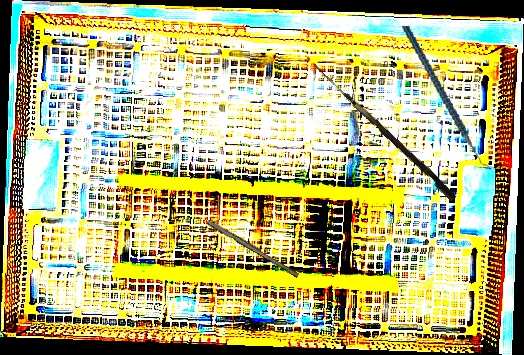Chopper: (401, 14, 497, 181)
Hook Surgical: (307, 63, 459, 202)
Scalpel Handle: (205, 218, 301, 278)
